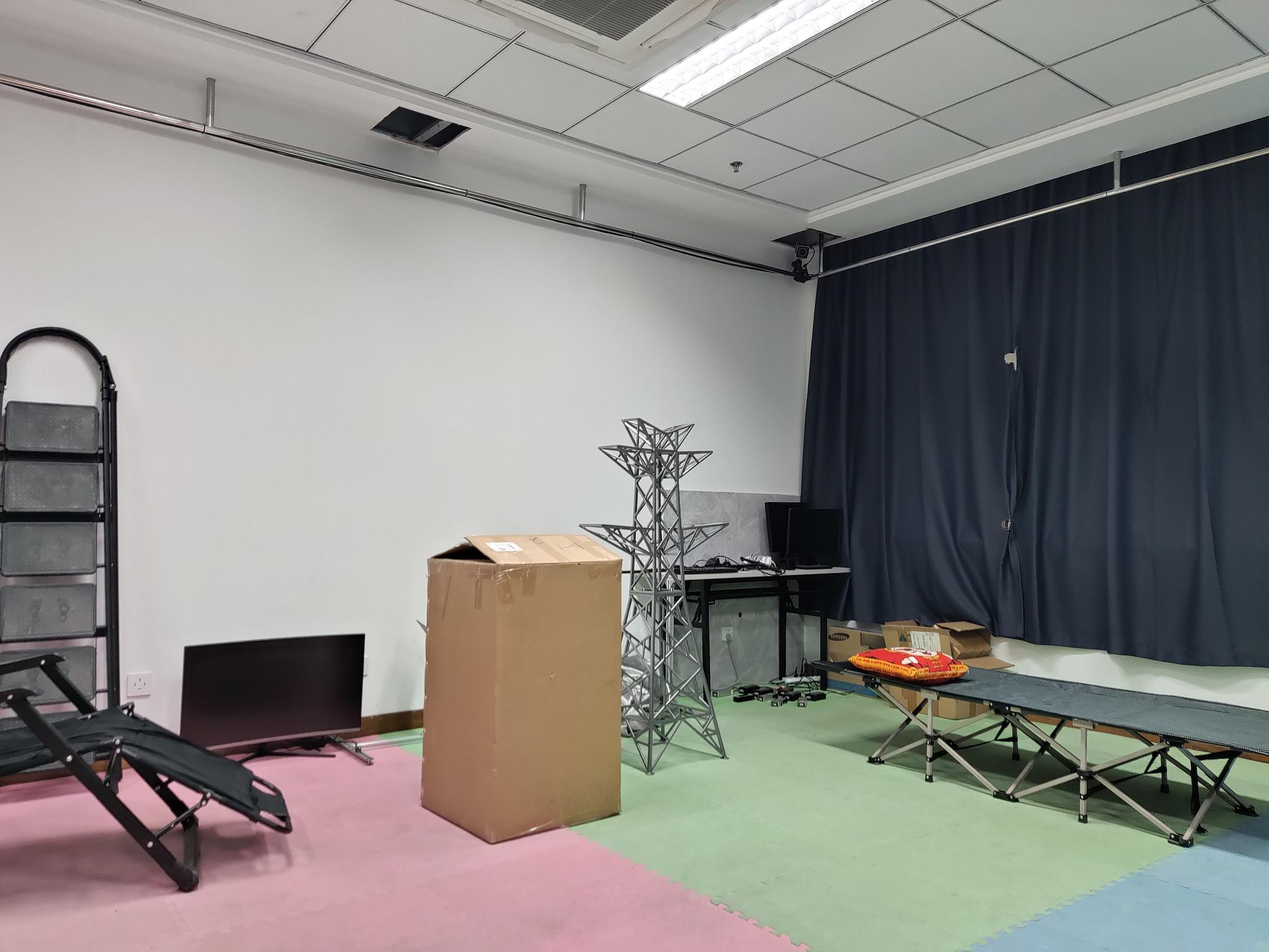tower: (617, 414, 729, 763)
